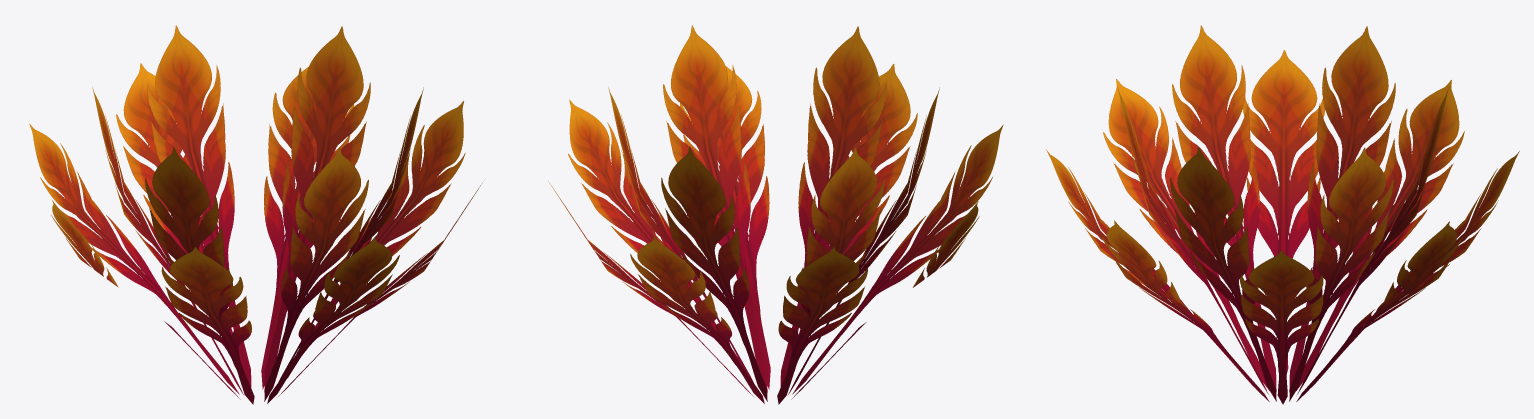
File: Red_Bush_01b.FBX
3 renders of one model, left to right at view 1: azimuth 30°, elevation 25°; view 2: azimuth 150°, elevation 25°; view 3: azimuth 270°, elevation 25°, orthographic.
Visible parts, largest first — view 1: Red_Bush_01b; view 2: Red_Bush_01b; view 3: Red_Bush_01b.
Boxes of the visible parts, bbox=[...] form: Red_Bush_01b: bbox=[29, 25, 482, 404]; Red_Bush_01b: bbox=[548, 25, 1003, 404]; Red_Bush_01b: bbox=[1046, 25, 1519, 404].
Size of the model in its own units: 135 by 97.42 by 135.
